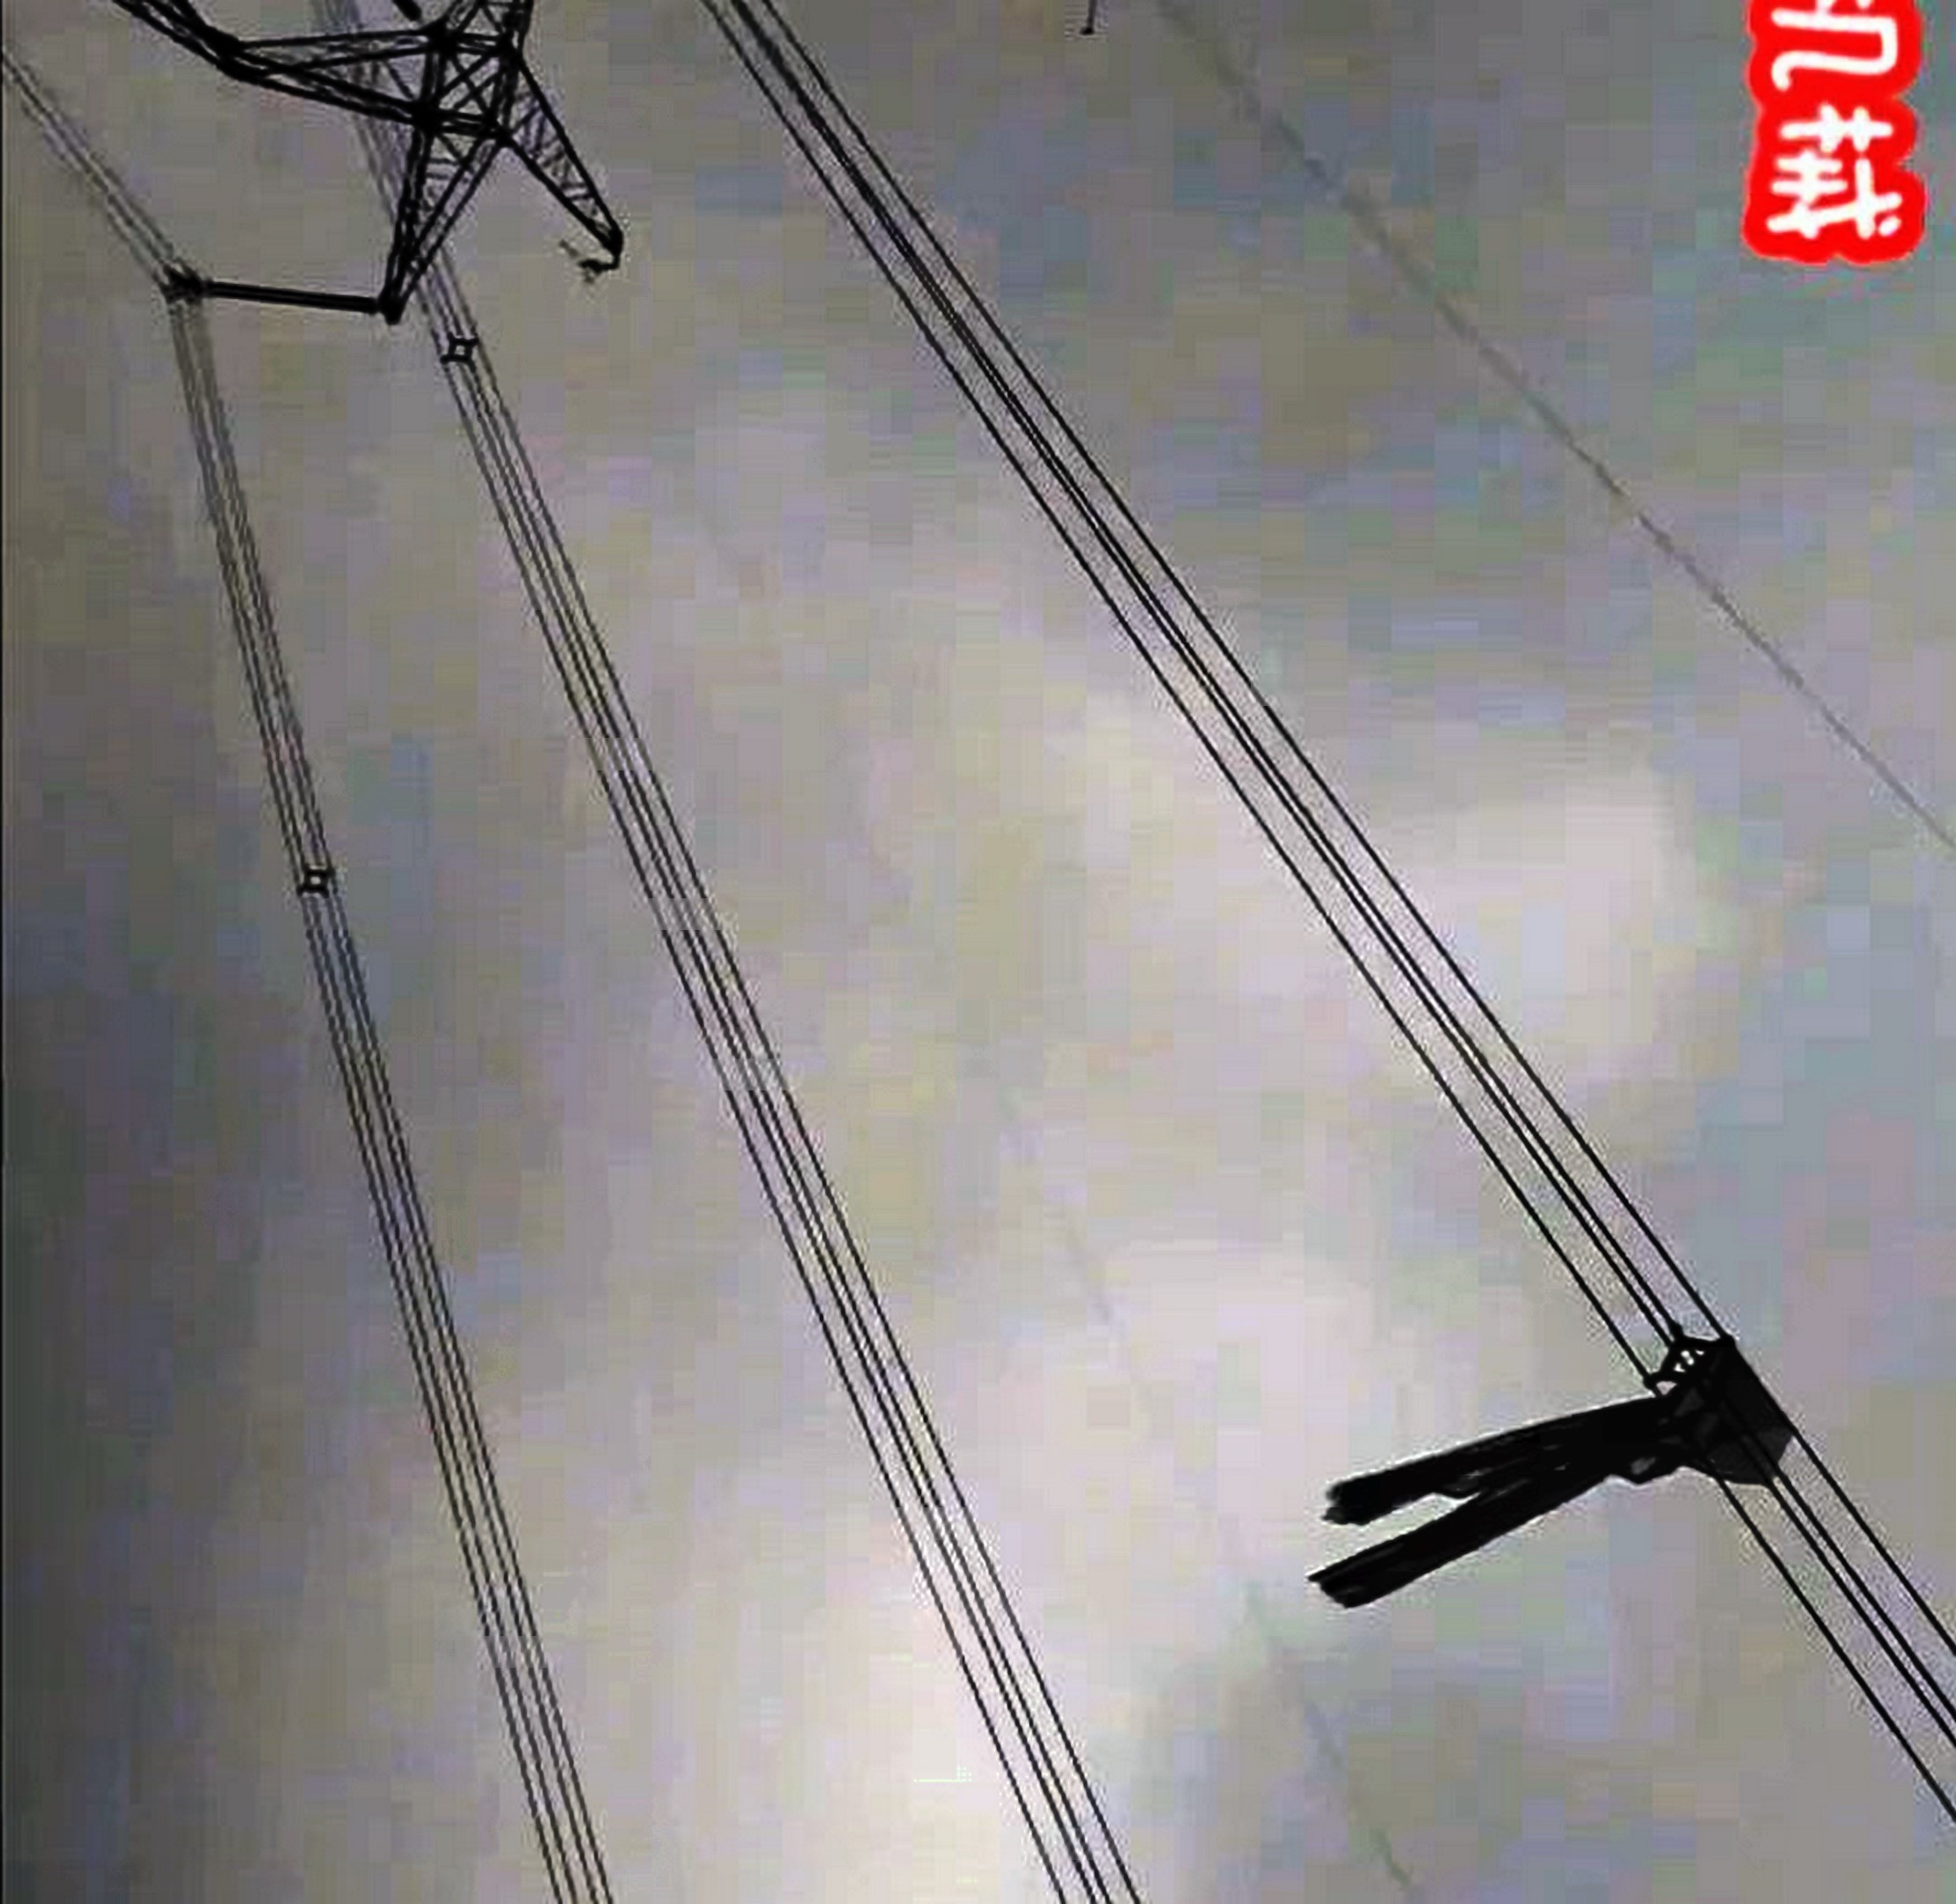wire foreign body: (1271, 1314, 1837, 1623)
